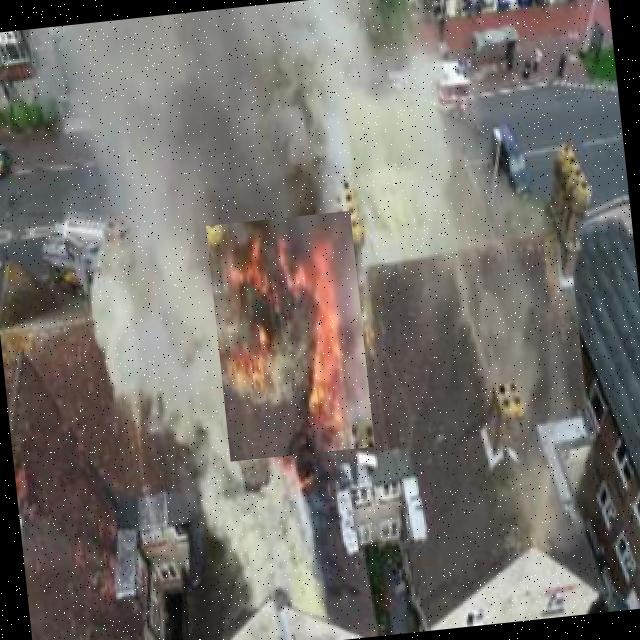fire: (206, 210, 374, 461)
